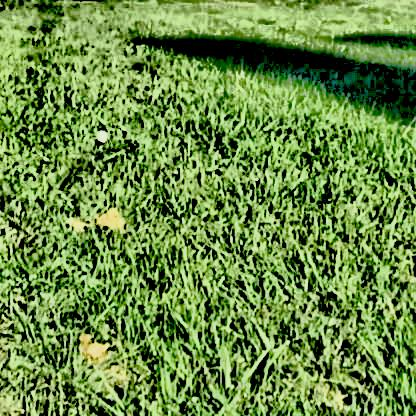golfball: (91, 125, 106, 140)
